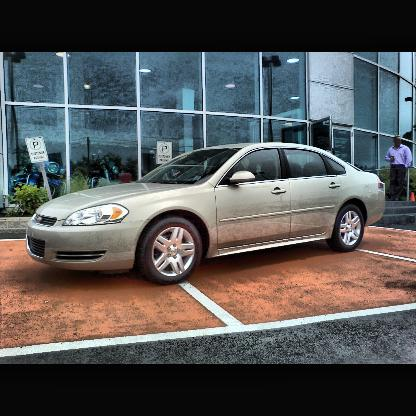Chevrolet Impala Sedan 2007: (26, 143, 390, 283)
